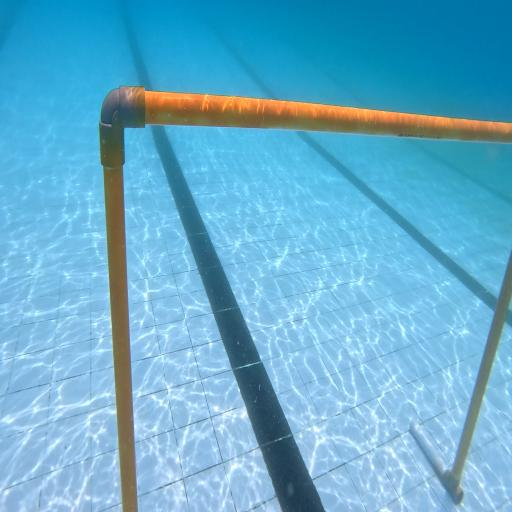gate: (99, 87, 512, 512)
